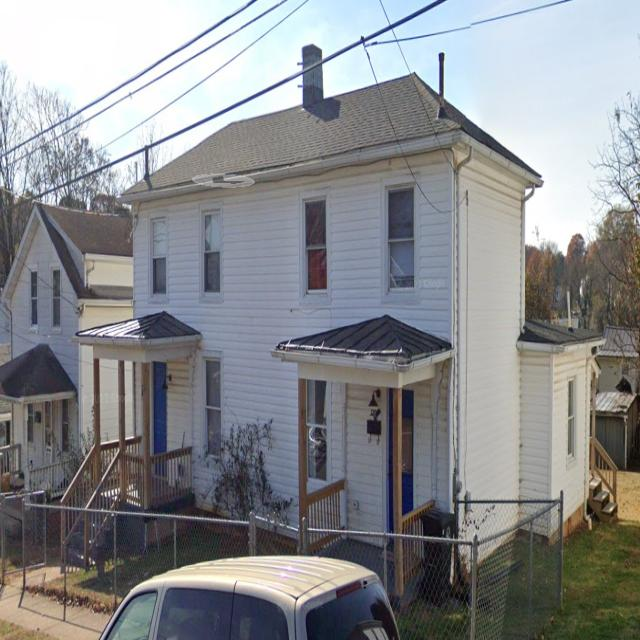House: (61, 44, 618, 603), (0, 202, 134, 539)
